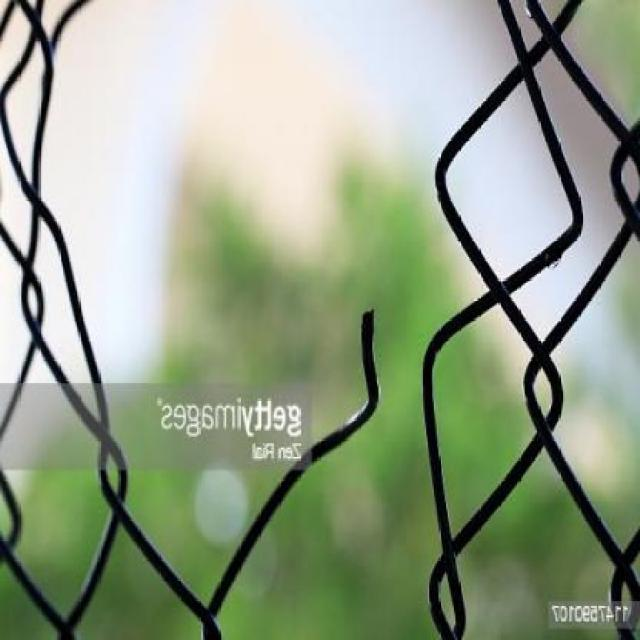fence line: (44, 9, 516, 594)
